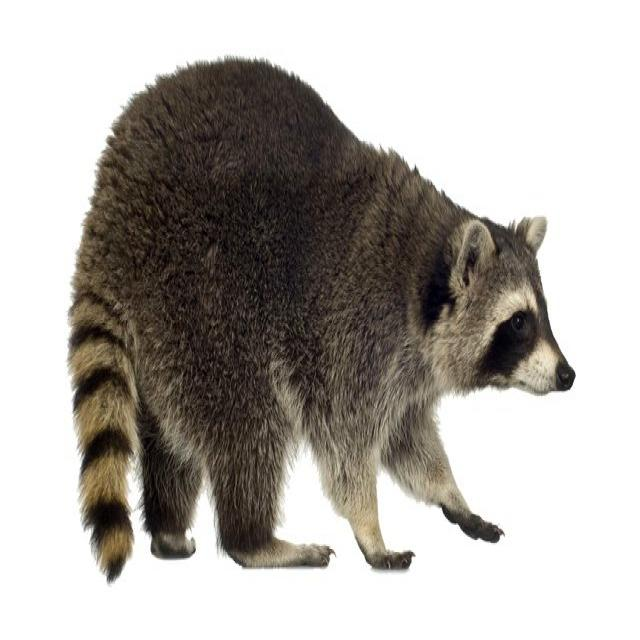raccoon: (68, 58, 574, 579)
